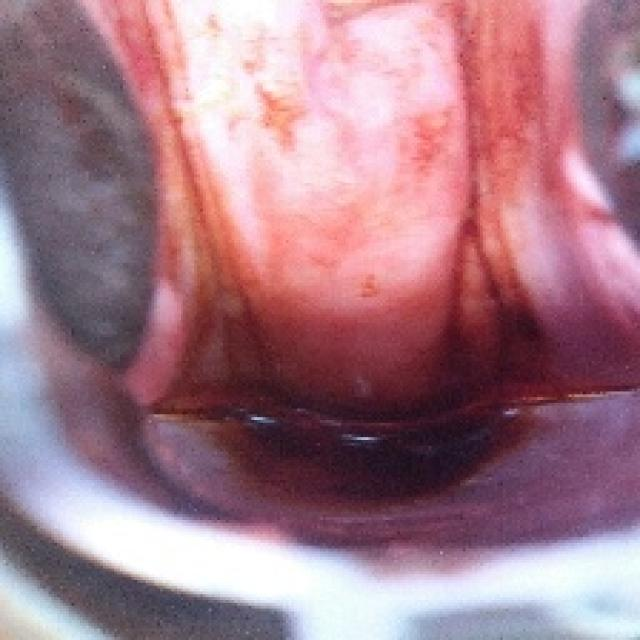type-2: (70, 0, 607, 558)
